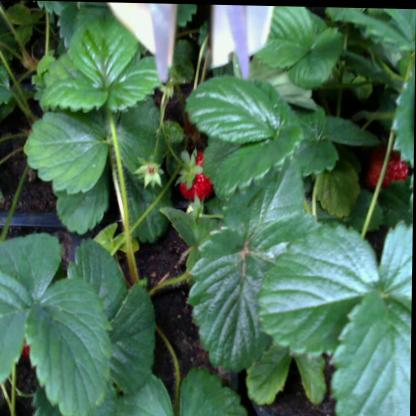ripe: (180, 150, 218, 200), (368, 147, 412, 185)
